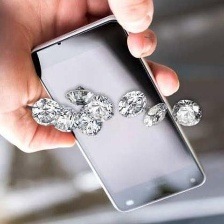phone: (24, 10, 209, 215)
